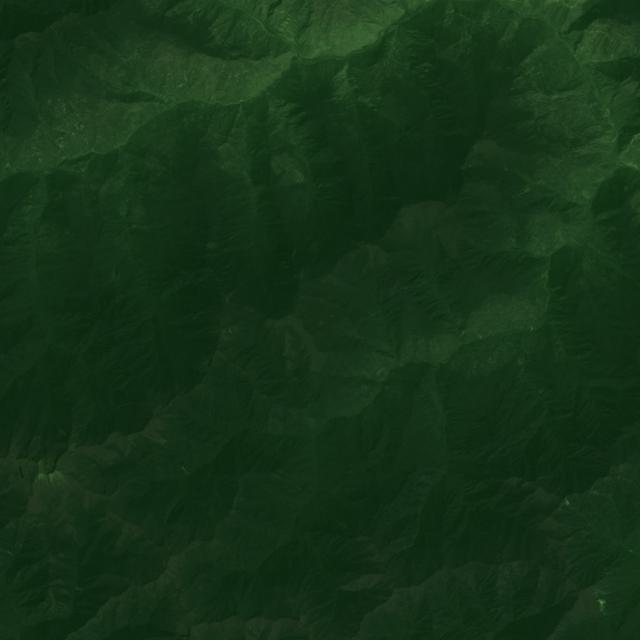landslides: (512, 178, 545, 198), (53, 471, 73, 491), (564, 524, 590, 538), (547, 299, 571, 314), (225, 282, 243, 302), (567, 224, 585, 239), (58, 137, 68, 159), (491, 464, 505, 479), (269, 139, 288, 150), (513, 188, 529, 199), (433, 308, 450, 318), (550, 39, 561, 54), (581, 190, 597, 200), (517, 253, 527, 265), (555, 231, 564, 244)
